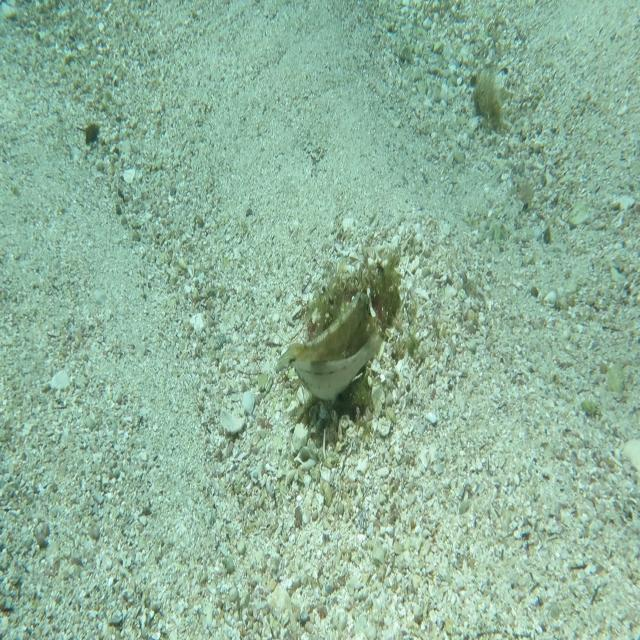BEND_OPP: (276, 288, 372, 376)
female: (290, 326, 384, 403)
nest: (293, 233, 412, 429)
